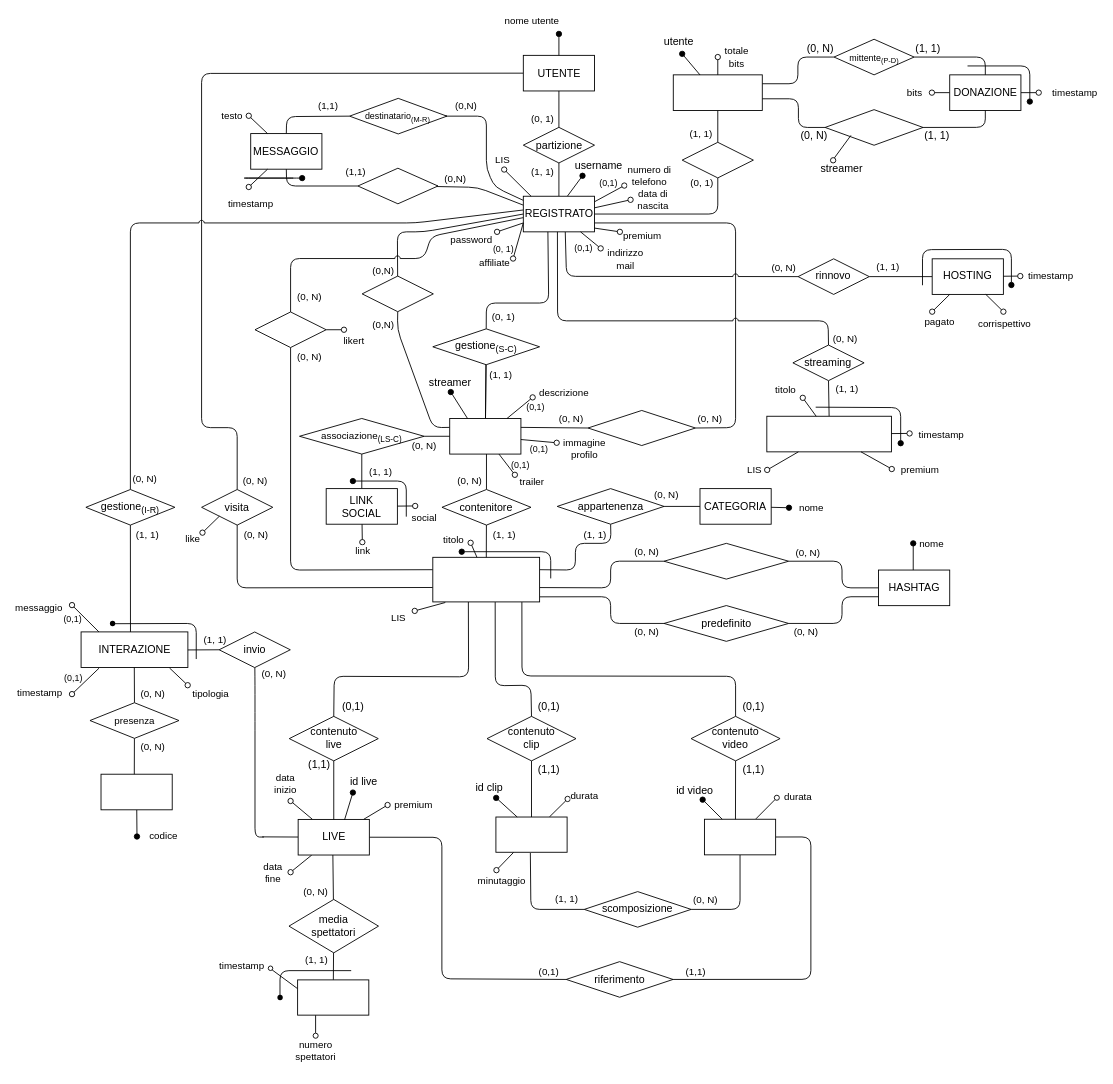
This 1113x1084 diagram has some shape labels left out. Here are the shapes that lost their labels. From the top down, the centre of each, then its label:
the point at 717,92: PORTAFOGLIO
the point at 873,127: destinatario (P-D)
the point at 717,159: conto
the point at 397,185: mittente (M-R)
the point at 397,293: follower
the point at 290,329: voto
the point at 485,436: CANALE
the point at 641,428: abbonamento
the point at 828,433: PROGRAMMAZIONE
the point at 486,579: CONTENUTO MULTIMEDIALE
the point at 726,560: nuovo
the point at 136,791: EMOJI
the point at 531,834: CLIP
the point at 740,836: VIDEO
the point at 333,997: AFFLUENZA
